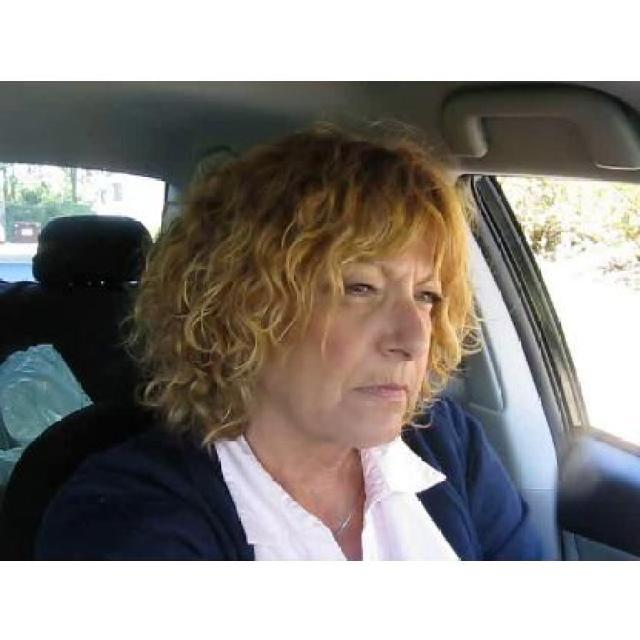attentif: (238, 127, 442, 448)
